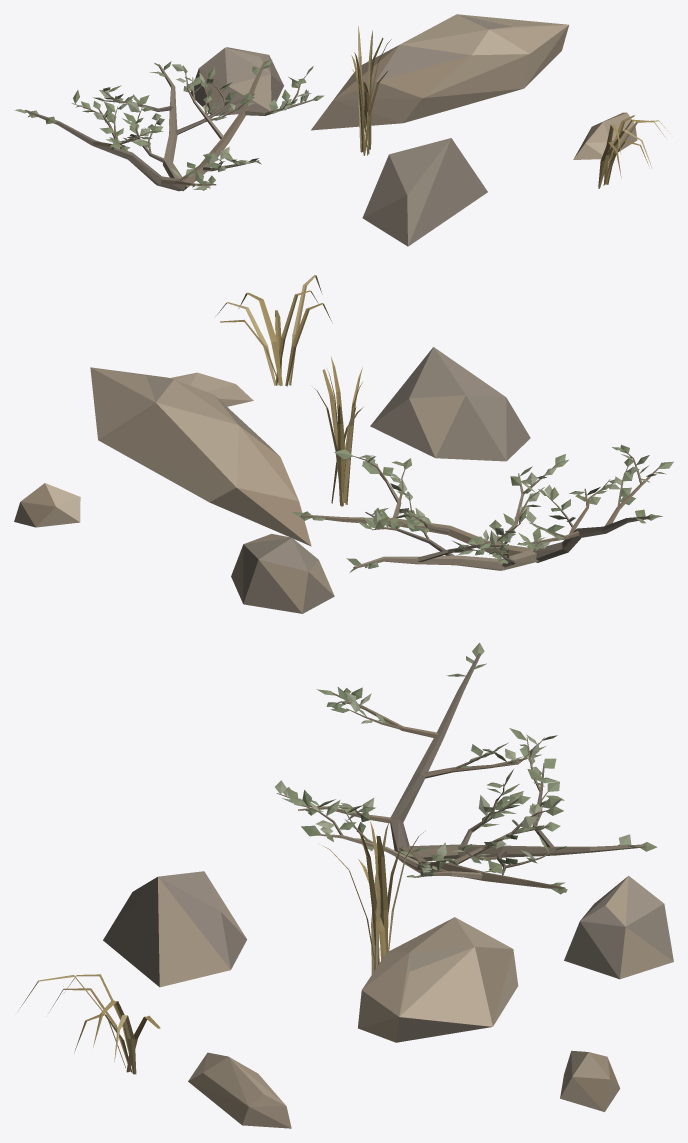
File: rock-and-spreading-shrub.glb
3 renders of one model, top to bottom at view 1: azimuth 30°, elevation 25°; view 2: azimuth 150°, elevation 25°; view 3: azimuth 270°, elevation 25°, orthographic. The views are drawn at different scales.
Bounding box in the file's own units: 1.45 × 0.3138 × 1.13.
